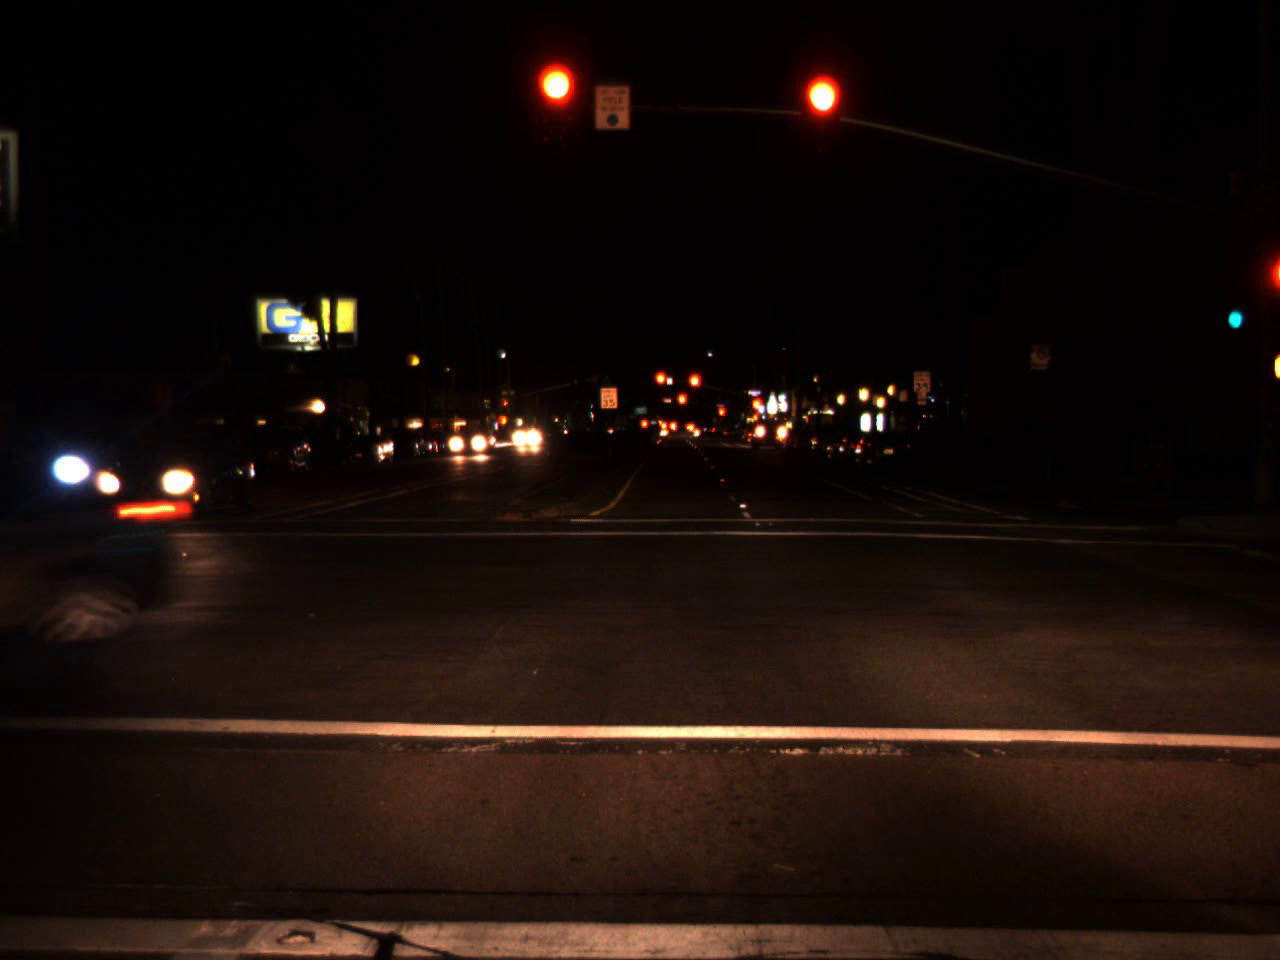stop: (537, 65, 577, 143), (802, 75, 839, 153), (653, 369, 671, 401), (686, 371, 703, 403), (676, 391, 688, 418), (750, 396, 763, 414), (717, 406, 726, 427), (503, 401, 509, 411)
